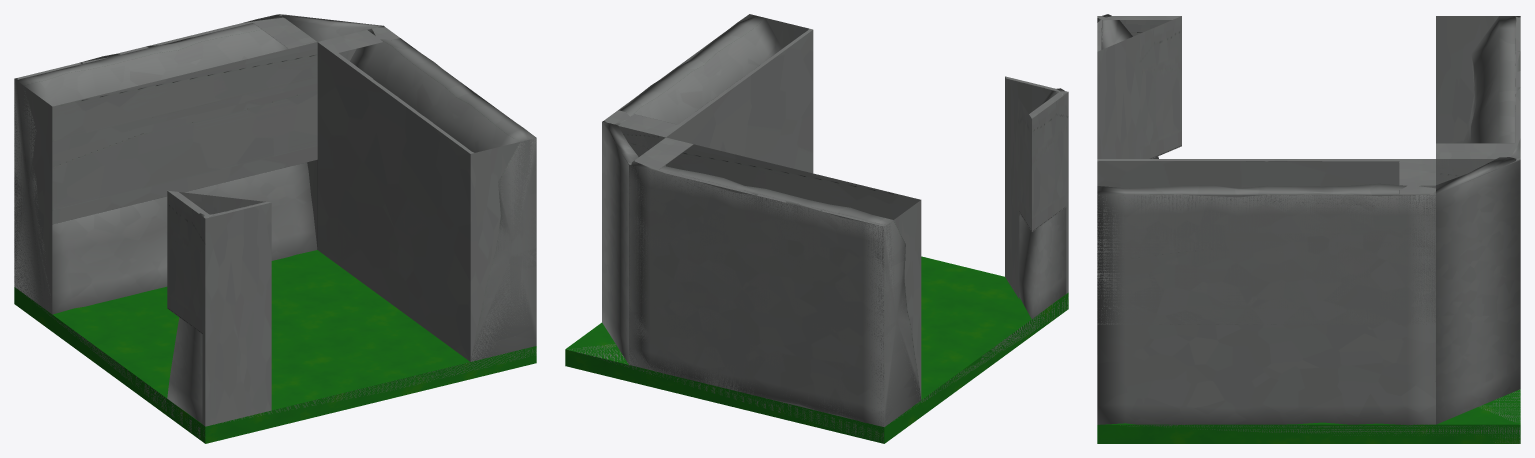
The model's file is cornerRoom.obj.
The picture shows the model from 3 angles, left to right: view 1: azimuth 30°, elevation 25°; view 2: azimuth 150°, elevation 25°; view 3: azimuth 270°, elevation 25°; orthographic projection. The views are drawn at different scales.
Visible parts, largest first — view 1: Wall-colonly.002, Wall-colonly.001, Floor.004, Wall.004, CornerInt-colonly.001, Wall.003, CornerInt.003, Floor-colonly.001, CornerExt.003, CornerExt-colonly.001; view 2: Wall.004, Wall-colonly.001, Floor.004, Wall-colonly.002, CornerInt-colonly.001, Wall.003, CornerExt.003, CornerInt.003, Floor-colonly.001, CornerExt-colonly.001; view 3: Wall.003, Wall-colonly.002, CornerExt.003, CornerInt-colonly.001, Floor.004, Wall-colonly.001, Wall.004, Floor-colonly.001, CornerExt-colonly.001, CornerInt.003.
Part boxes in pixels (left/top/right/bottom): Wall-colonly.002: left=317, top=27, right=536, bottom=361; Wall-colonly.001: left=14, top=14, right=317, bottom=313; Floor.004: left=14, top=250, right=536, bottom=443; Wall.004: left=14, top=14, right=317, bottom=314; CornerInt-colonly.001: left=167, top=190, right=271, bottom=426; Wall.003: left=350, top=25, right=536, bottom=361; CornerInt.003: left=167, top=213, right=217, bottom=423; Floor-colonly.001: left=19, top=290, right=536, bottom=438; CornerExt.003: left=281, top=15, right=382, bottom=41; CornerExt-colonly.001: left=279, top=14, right=359, bottom=249; Wall.004: left=629, top=160, right=921, bottom=427; Wall-colonly.001: left=629, top=137, right=921, bottom=426; Floor.004: left=565, top=256, right=1068, bottom=443; Wall-colonly.002: left=604, top=18, right=813, bottom=173; CornerInt-colonly.001: left=1005, top=76, right=1068, bottom=298; Wall.003: left=602, top=14, right=782, bottom=125; CornerExt.003: left=602, top=122, right=638, bottom=364; CornerInt.003: left=1019, top=88, right=1066, bottom=318; Floor-colonly.001: left=569, top=297, right=1068, bottom=442; CornerExt-colonly.001: left=613, top=126, right=665, bottom=165; Wall.003: left=1097, top=183, right=1435, bottom=426; Wall-colonly.002: left=1097, top=159, right=1435, bottom=324; CornerExt.003: left=1436, top=157, right=1520, bottom=424; CornerInt-colonly.001: left=1097, top=16, right=1181, bottom=158; Floor.004: left=1097, top=389, right=1520, bottom=443; Wall-colonly.001: left=1436, top=16, right=1520, bottom=184; Wall.004: left=1463, top=16, right=1520, bottom=158; Floor-colonly.001: left=1120, top=389, right=1520, bottom=443; CornerExt-colonly.001: left=1436, top=159, right=1520, bottom=184; CornerInt.003: left=1097, top=14, right=1158, bottom=158.
Size of the model in its own units: 10 by 6.56 by 10.
